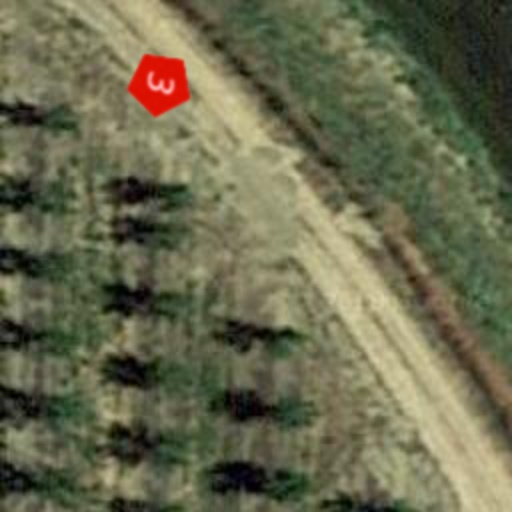pentagon: (120, 44, 200, 124)
